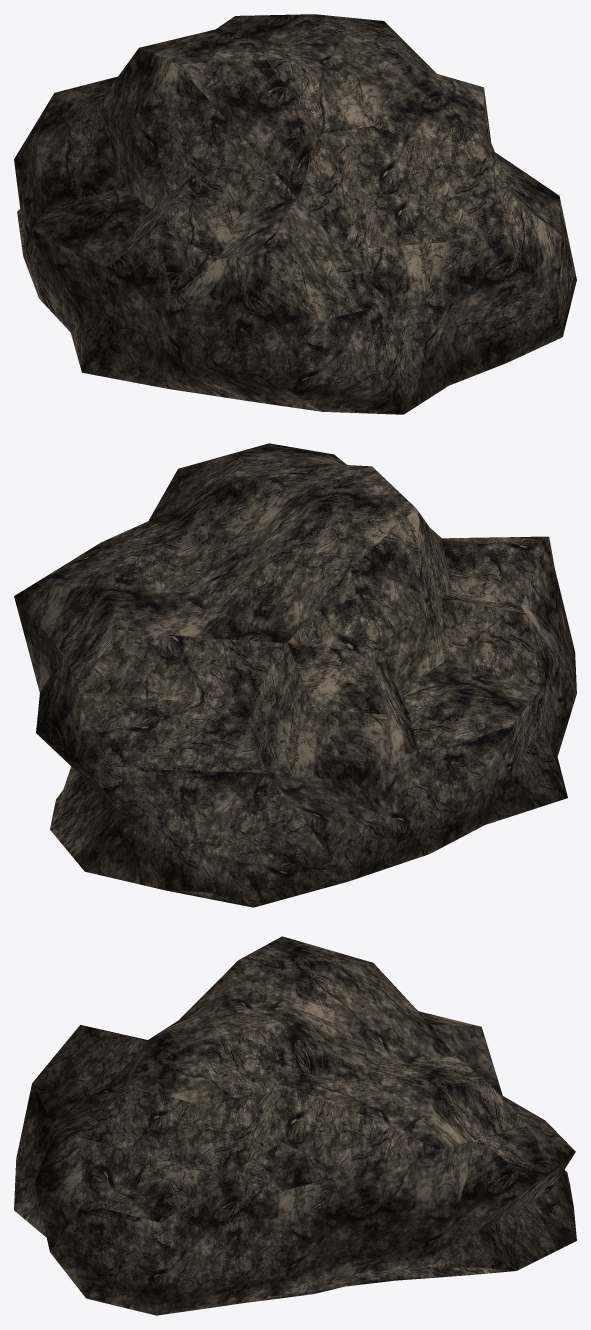
File: rock_5.glb
3 renders of one model, top to bottom at view 1: azimuth 30°, elevation 25°; view 2: azimuth 150°, elevation 25°; view 3: azimuth 270°, elevation 25°, orthographic. The views are drawn at different scales.
Parts seen in each view (by area): view 1: rock; view 2: rock; view 3: rock.
Boxes of the visible parts, x1,y1,x2,y2 form: rock: [14, 14, 576, 414]; rock: [14, 443, 576, 907]; rock: [14, 936, 576, 1315].
Size of the model in its own units: 55.3 by 31.55 by 65.61.
1 material, 1 textured.
